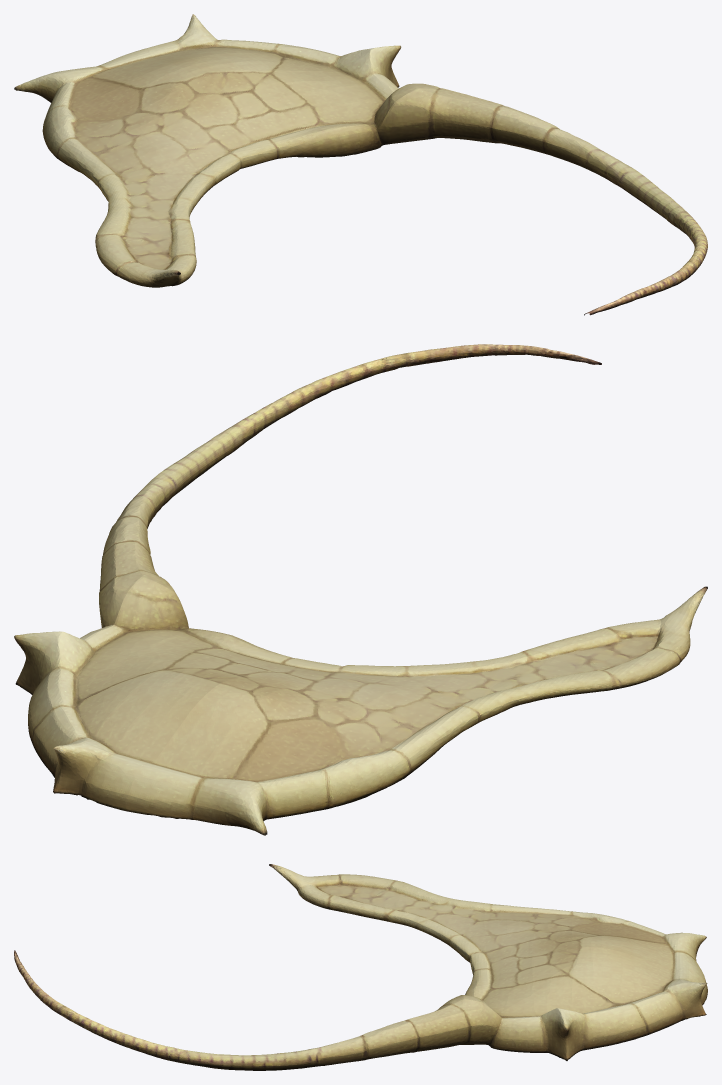
The picture shows the model from 3 angles, top to bottom: view 1: azimuth 30°, elevation 25°; view 2: azimuth 150°, elevation 25°; view 3: azimuth 270°, elevation 25°; orthographic projection. The views are drawn at different scales.
Parts seen in each view (by area): view 1: world; view 2: world; view 3: world.
Boxes of the visible parts, x1,y1,x2,y2 form: world: (14, 14, 707, 315); world: (14, 344, 707, 835); world: (14, 864, 707, 1070).
Size of the model in its own units: 0.6557 by 0.0848 by 0.9977.
1 material, 1 textured.
